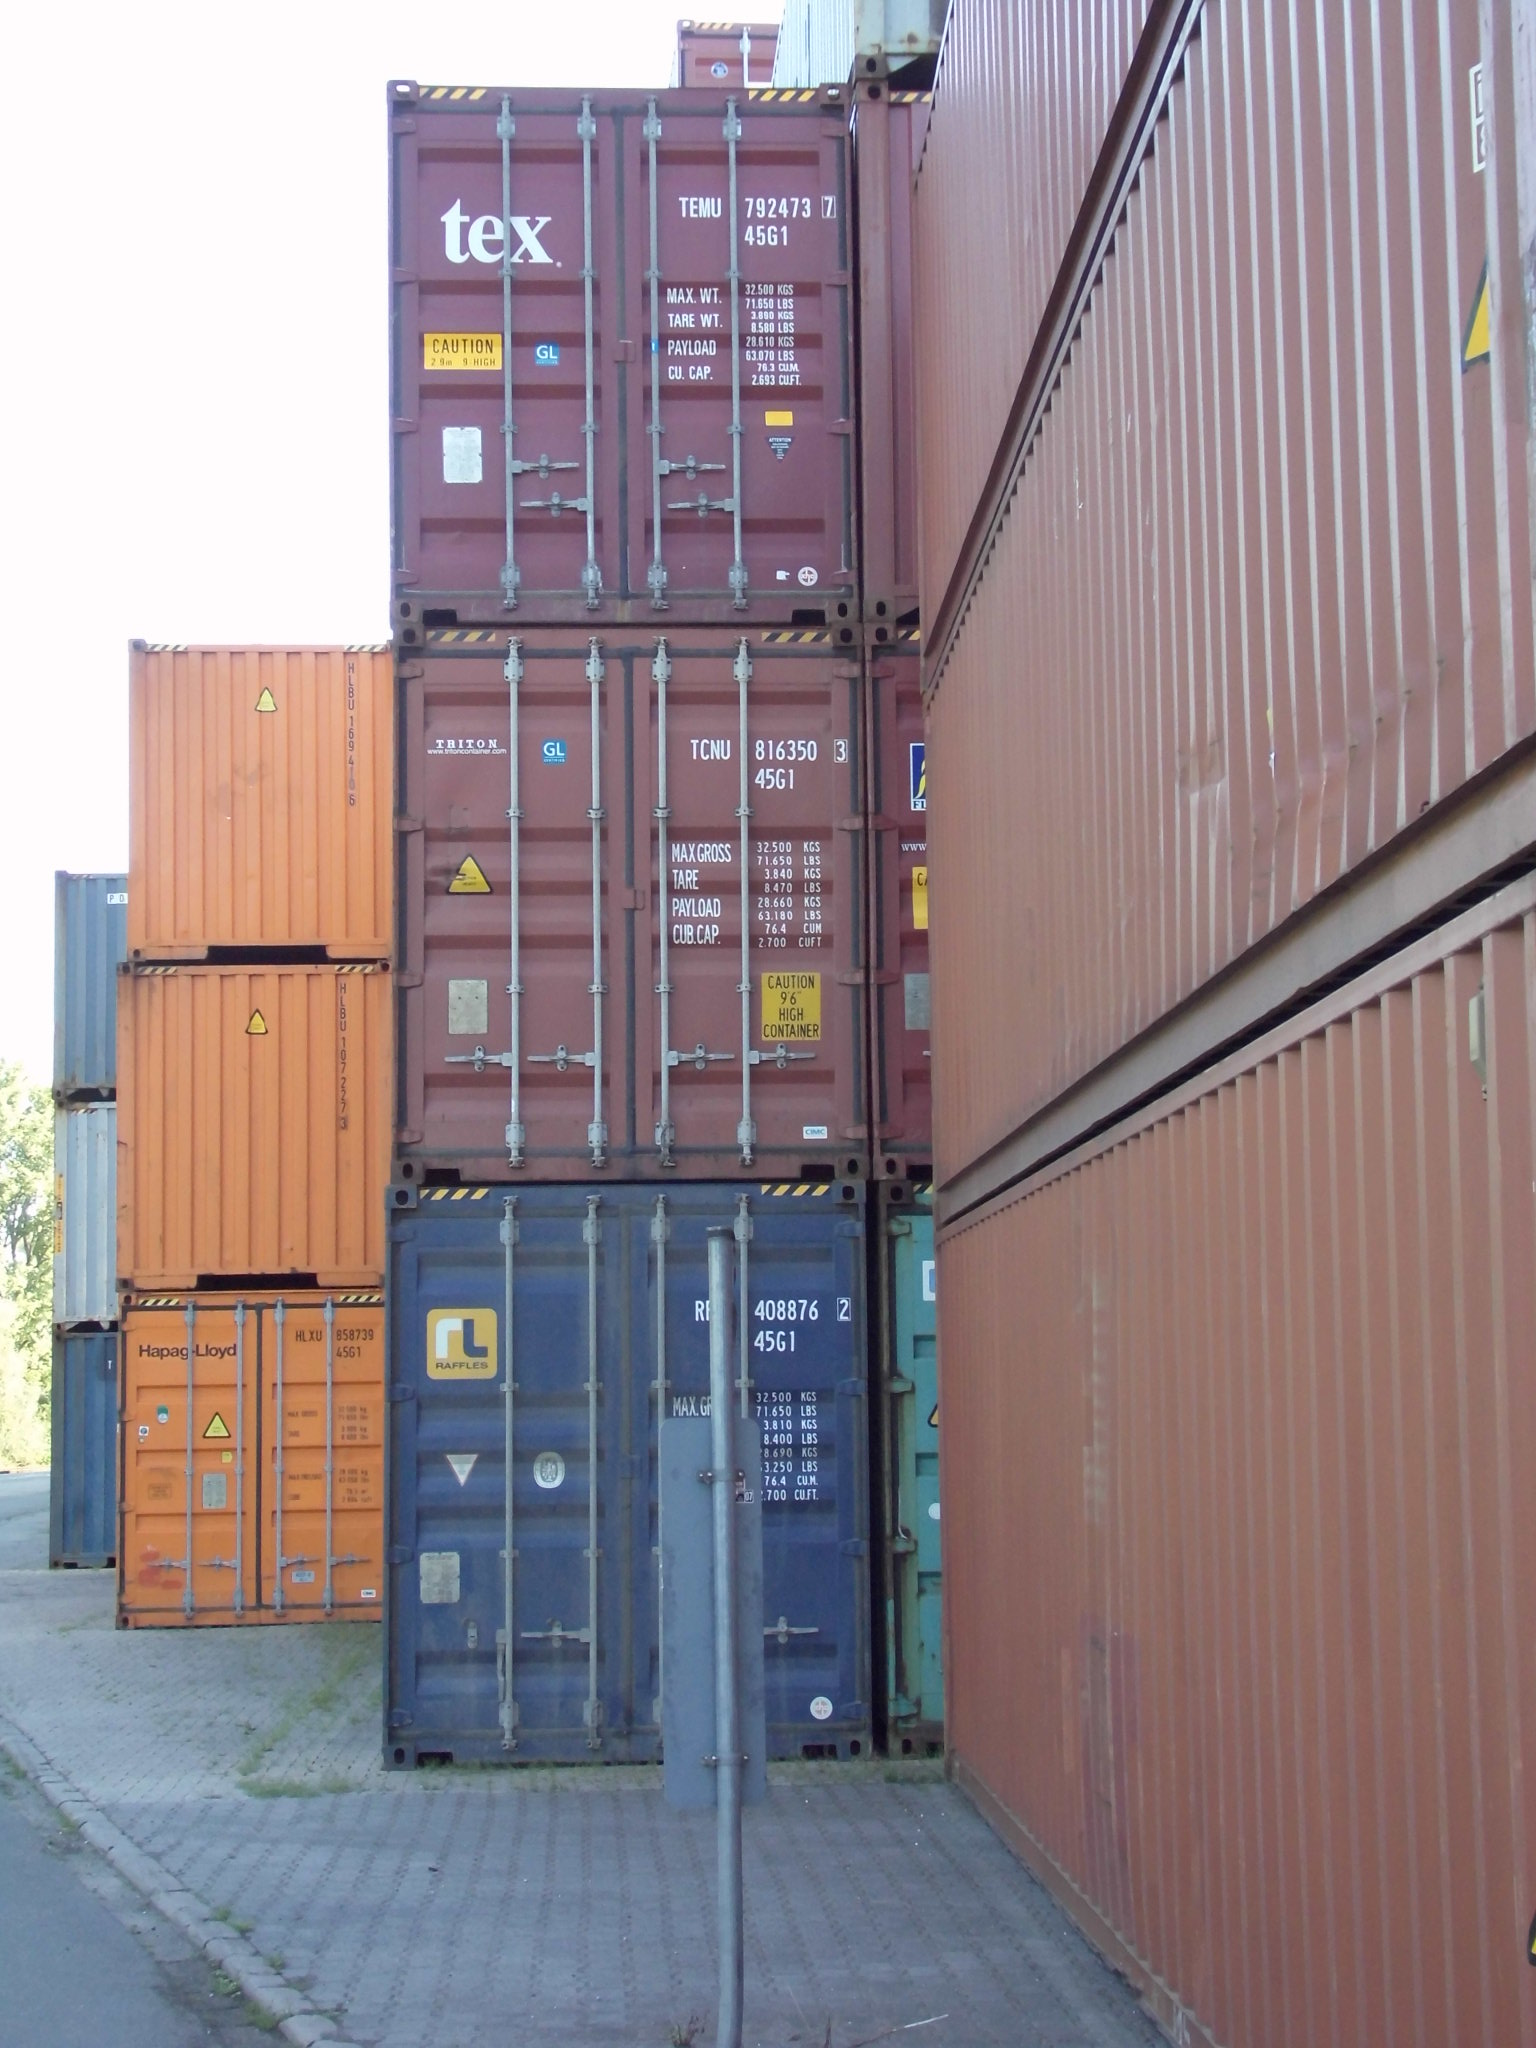container_door: (395, 79, 868, 634), (400, 640, 871, 1193), (395, 1205, 866, 1758), (105, 1293, 399, 1625)
container_no_door: (116, 634, 395, 959), (111, 966, 390, 1292)
